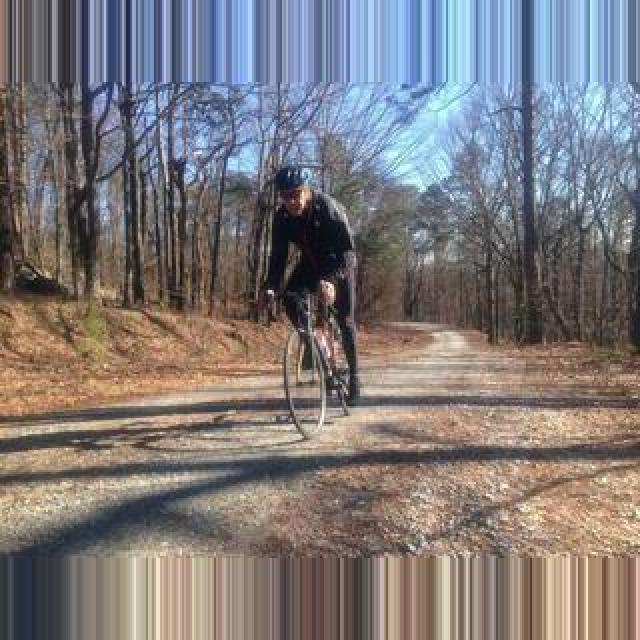MC-Bike: (256, 164, 360, 404)
Person: (273, 285, 355, 439)
